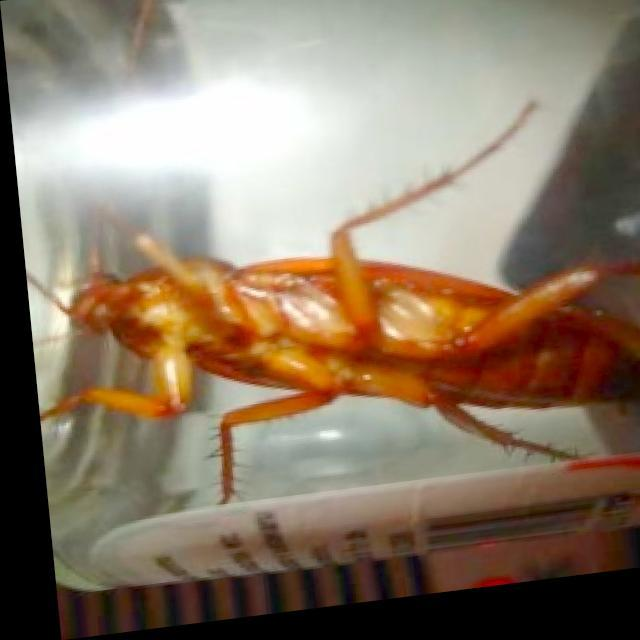cockroach: (30, 96, 637, 506)
